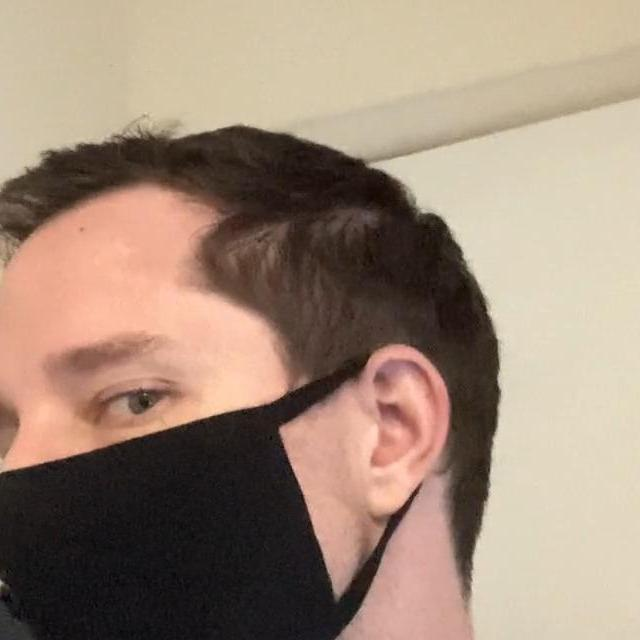Mask: (0, 376, 402, 640)
NO-Hardhat: (0, 123, 469, 293)
Person: (0, 120, 640, 640)
